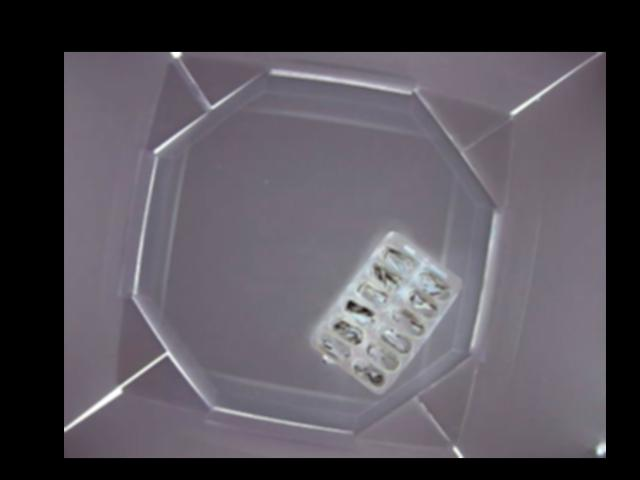Medicine: (314, 231, 463, 392)
